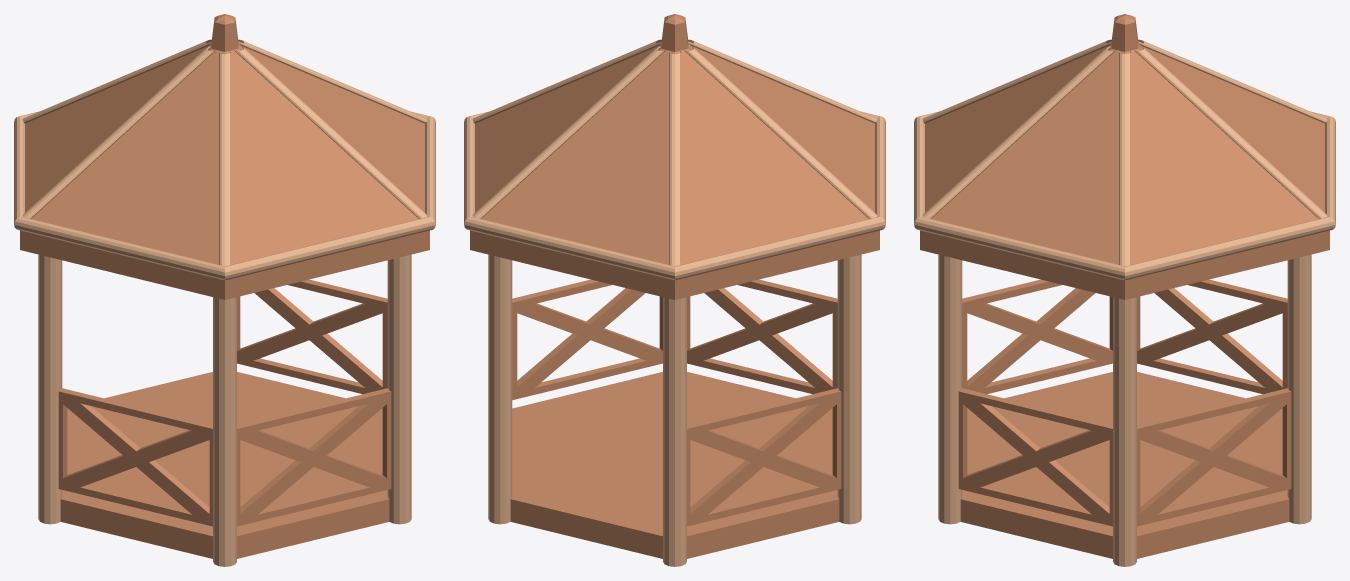
Rendered from sitting_seat.fbx.
3 renders of one model, left to right at view 1: azimuth 30°, elevation 25°; view 2: azimuth 150°, elevation 25°; view 3: azimuth 270°, elevation 25°, orthographic.
Visible parts, largest first — view 1: sitting_seat; view 2: sitting_seat; view 3: sitting_seat.
Boxes of the visible parts, box(x1,y1,x2,y2) form: sitting_seat: box(14, 14, 435, 566); sitting_seat: box(464, 14, 885, 566); sitting_seat: box(914, 14, 1335, 566).
Bounding box in the file's own units: 125 × 108 × 130.
